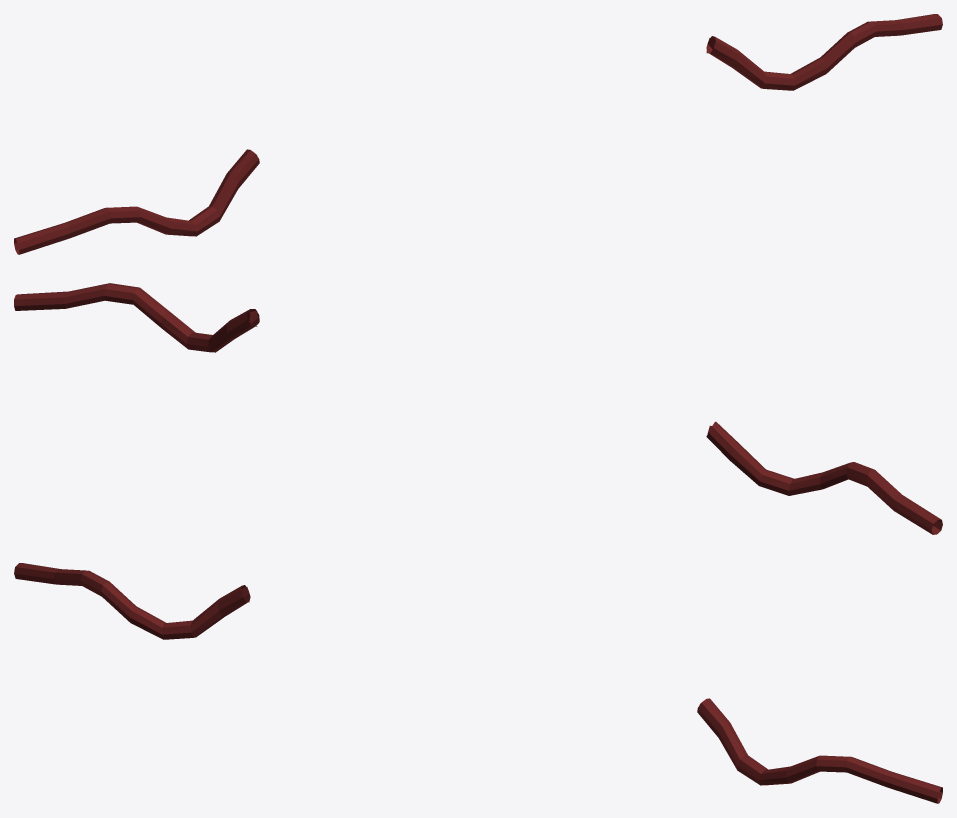
Rendered from Artéria Axilar.FBX.
3 renders of one model, top to bottom at view 1: azimuth 30°, elevation 25°; view 2: azimuth 150°, elevation 25°; view 3: azimuth 330°, elevation 25°, orthographic.
Parts seen in each view (by area): view 1: CS_Arterie; view 2: CS_Arterie; view 3: CS_Arterie.
Part boxes in pixels (x1,y1,x2,y2): CS_Arterie: (14, 14, 942, 254); CS_Arterie: (14, 283, 942, 534); CS_Arterie: (14, 563, 942, 803).
Size of the model in its own units: 1533 by 101 by 75.13.
